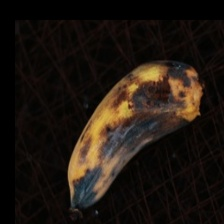banana: (4, 46, 189, 188)
